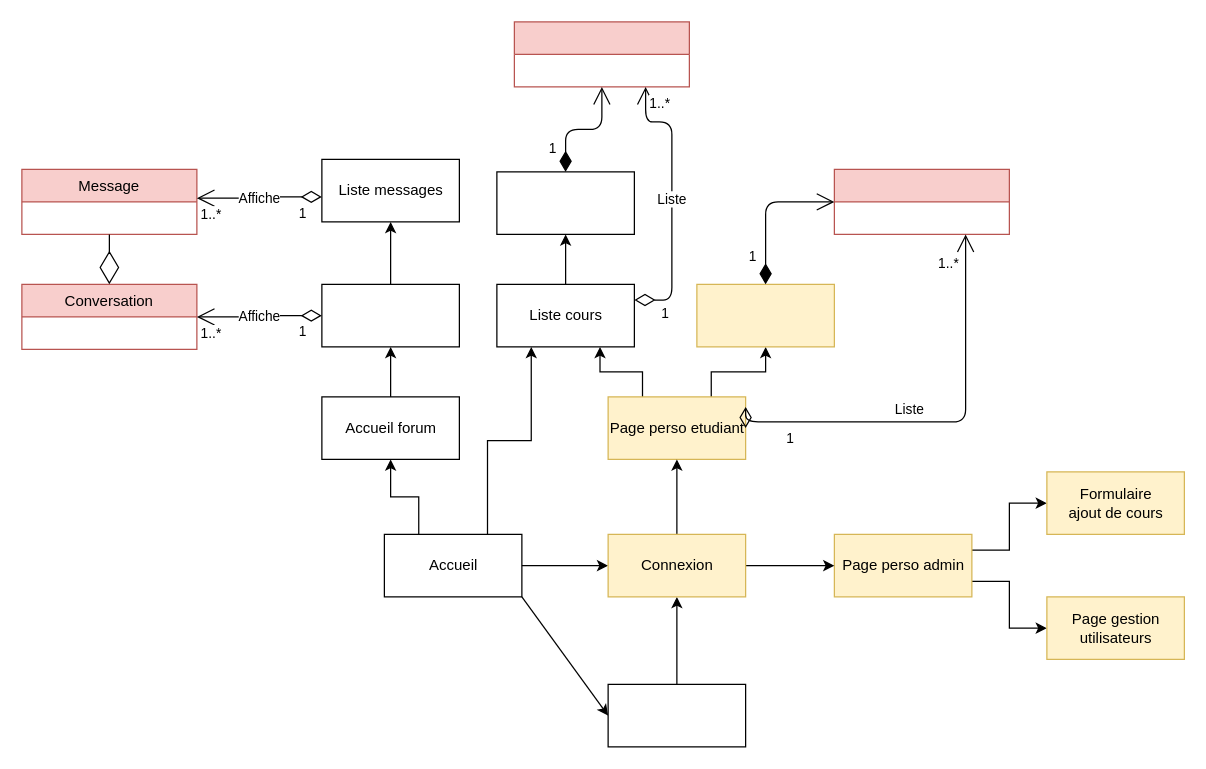
This 1206x769 diagram has some shape labels left out. Each missing label, with the box of its shape:
Affichage cours: (496, 171, 634, 234)
Affichage QCM: (696, 283, 834, 347)
Cours: (513, 21, 689, 87)
Inscription: (607, 683, 746, 747)
Liste conversations: (321, 283, 459, 347)
QCM: (833, 168, 1009, 234)
